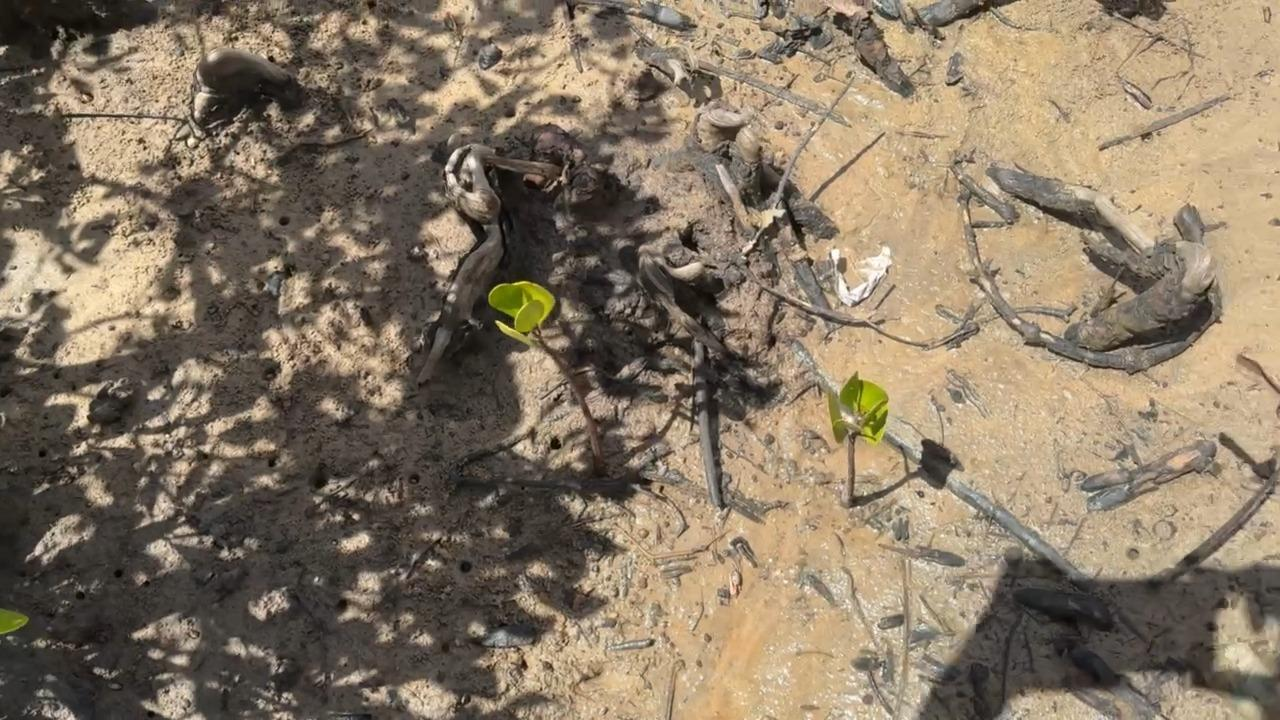Tree: (489, 281, 605, 475), (829, 370, 888, 508)
